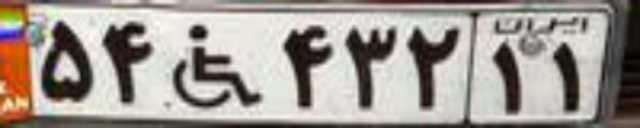1: (547, 41, 582, 112), (488, 41, 521, 114)
2: (409, 25, 458, 109)
3: (344, 25, 398, 109)
4: (101, 21, 153, 103), (282, 24, 331, 108)
5: (37, 18, 92, 102)
malol: (171, 24, 262, 108)
